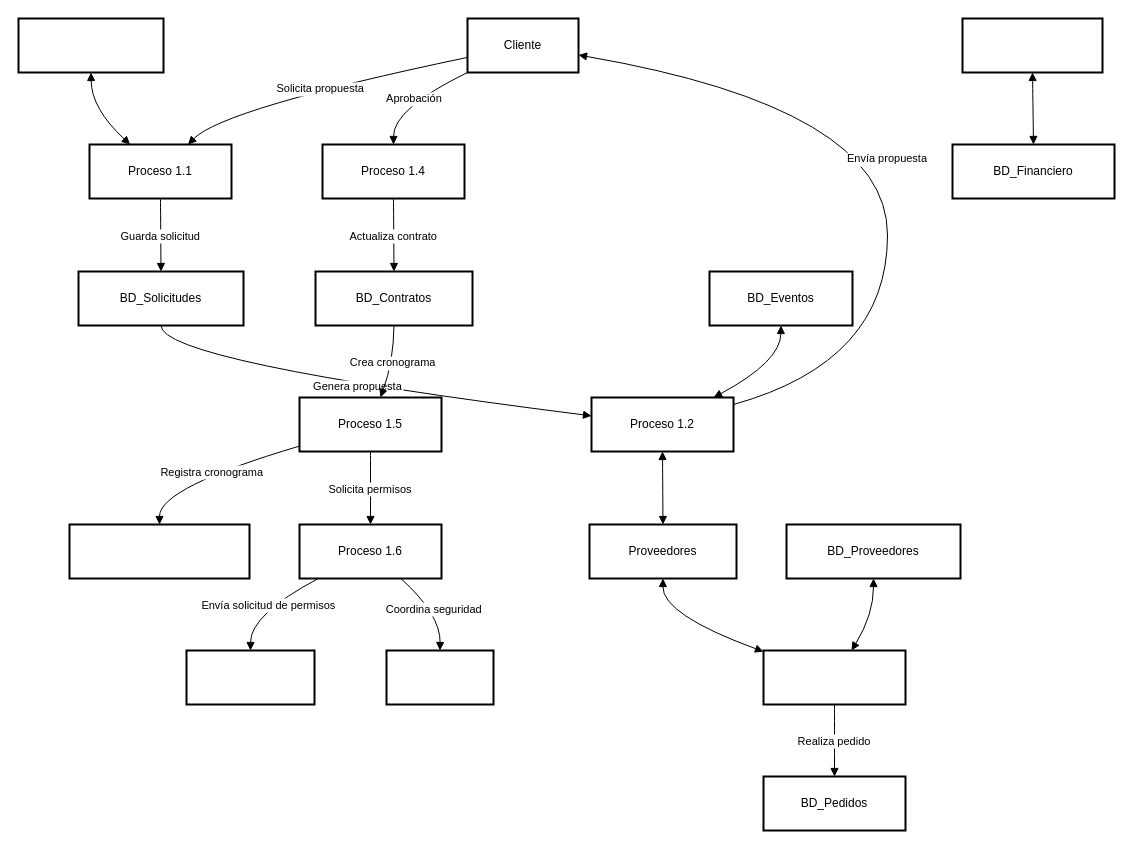
Image size: 1132x848. Some labels were removed from this diagram. The shapes that lost their labels are listed below. From the top down, each one's centre as x and y in pixels, then its label:
At pixel 90 45: "BD_Clientes".
At pixel 1032 45: "Arrendador".
At pixel 159 551: "BD_Cronogramas".
At pixel 250 677: "Municipio".
At pixel 439 677: "Policía".
At pixel 834 677: "Proceso 1.3".
